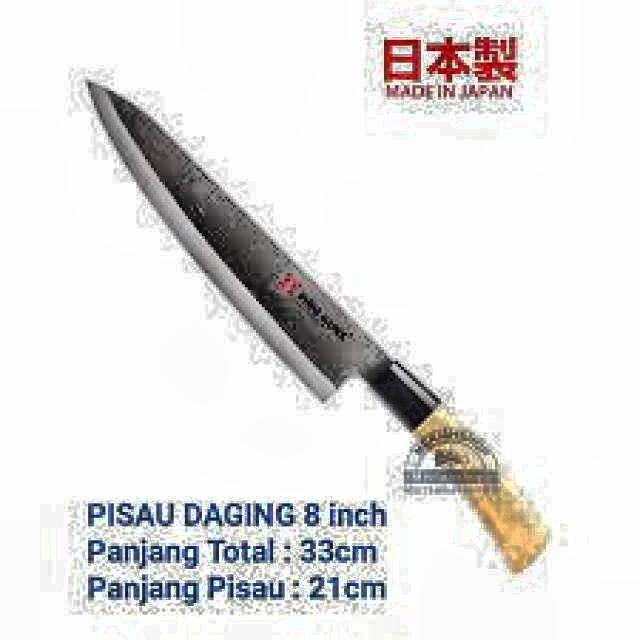knife: (85, 84, 548, 576)
